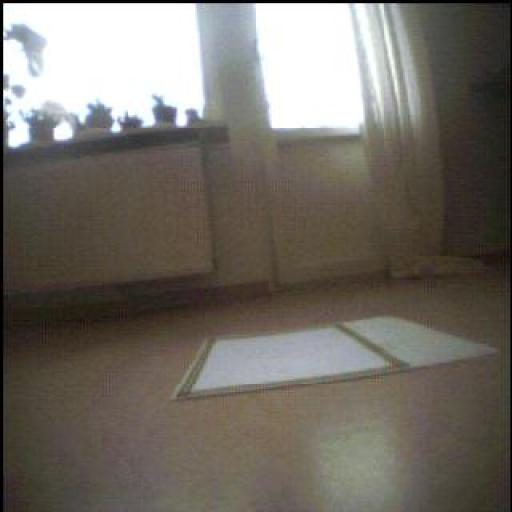Pad: (176, 318, 499, 399)
